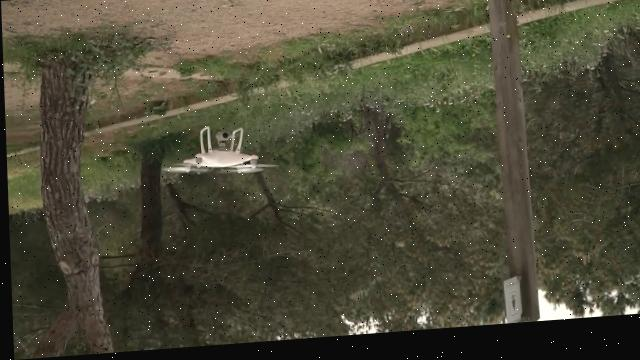drone: (157, 126, 277, 182)
